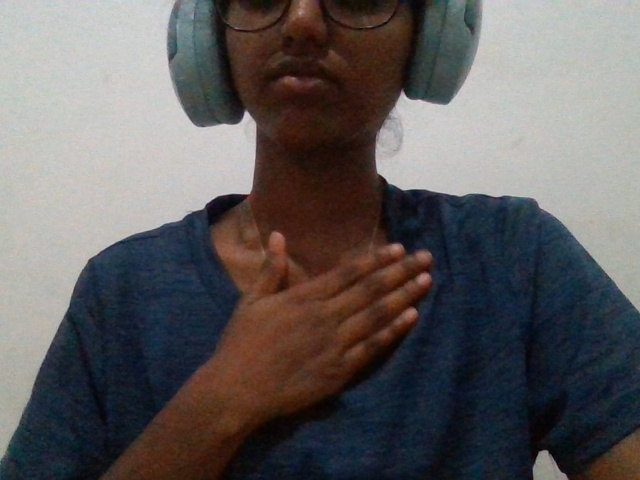Please: (142, 201, 483, 451)
